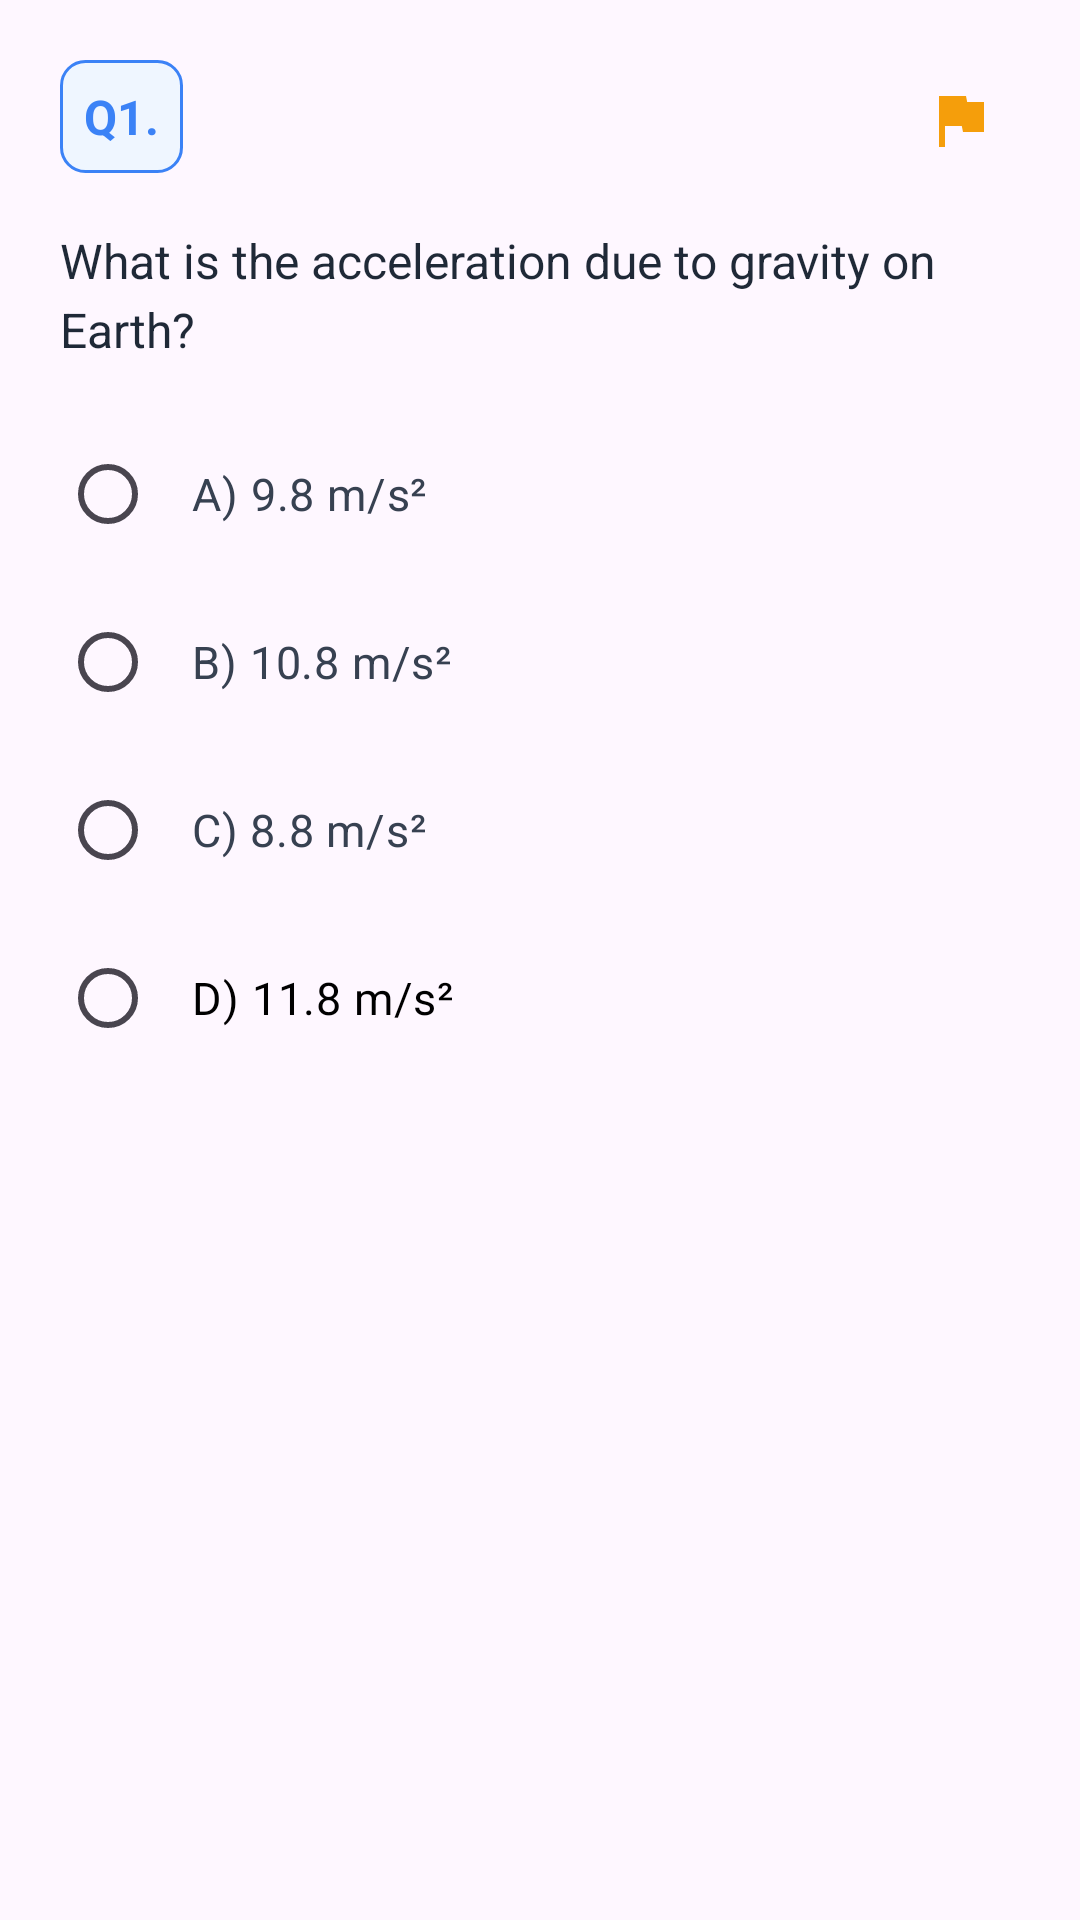

Icon bounding boxes for this 1080x1920 phone screenshot, format (x1, y1, x2, y2):
Flag this question: (939, 96, 984, 147)
